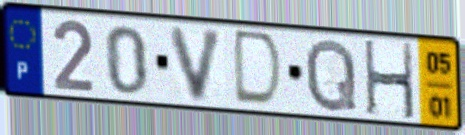0: (102, 23, 153, 97)
2: (51, 18, 96, 95)
D: (231, 28, 286, 112)
H: (361, 38, 418, 123)
Q: (303, 36, 360, 115)
V: (166, 25, 228, 105)
